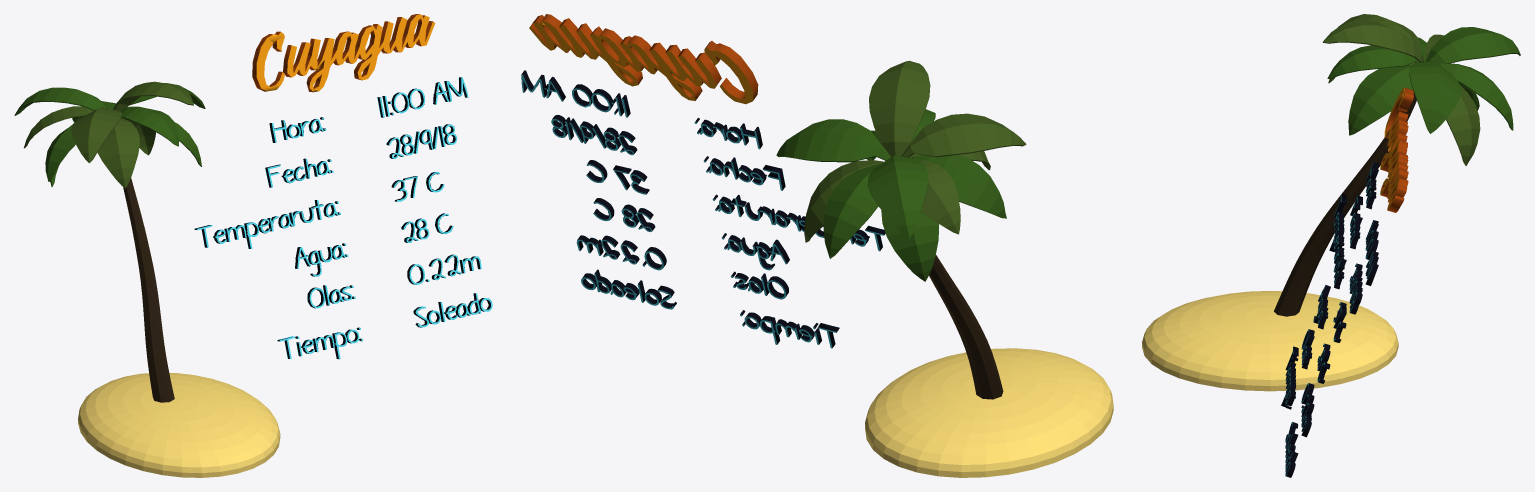
File: cuyagua-palm20.obj
3 renders of one model, left to right at view 1: azimuth 30°, elevation 25°; view 2: azimuth 150°, elevation 25°; view 3: azimuth 270°, elevation 25°, orthographic. The views are drawn at different scales.
Parts seen in each view (by area): view 1: Text.004, Sphere, Palm-tree_Cylinder.001; view 2: Palm-tree_Cylinder.001, Sphere, Text.004; view 3: Sphere, Palm-tree_Cylinder.001, Text.004.
Part boxes in pixels (x1,y1,x2,y2): Text.004: (194, 14, 492, 359); Sphere: (78, 373, 280, 477); Palm-tree_Cylinder.001: (14, 81, 205, 402); Palm-tree_Cylinder.001: (776, 60, 1026, 399); Sphere: (865, 348, 1113, 477); Text.004: (521, 14, 885, 348); Sphere: (1142, 291, 1398, 391); Palm-tree_Cylinder.001: (1274, 14, 1520, 316); Text.004: (1281, 87, 1414, 477).
Size of the model in its own units: 3.34 by 2.41 by 2.42.
